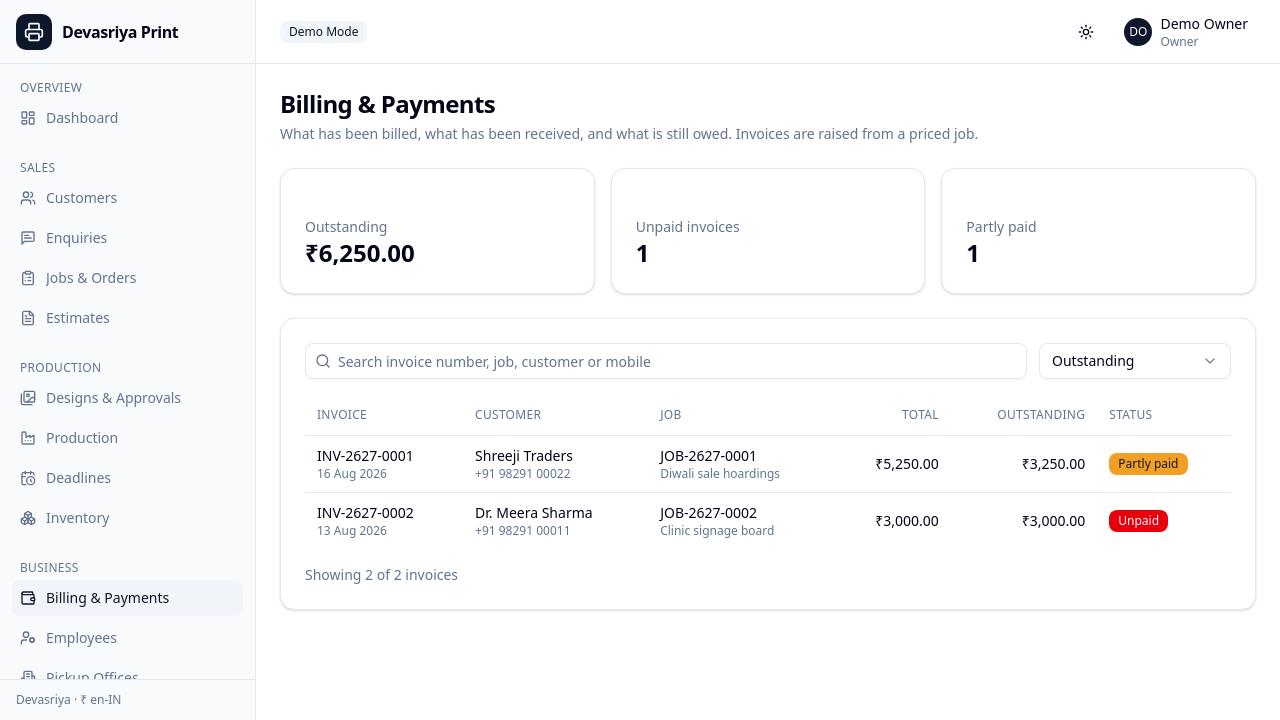
demo billing › lists what is outstanding, and filters by payment status
Expected: the heading "Billing & Payments" is shown, [280,87,495,120]
Expected: the text "₹6,250.00" is shown, [305,236,415,269]
Click the dropdown named "Filter by payment status": (1135, 361) [1039,343,1231,379]
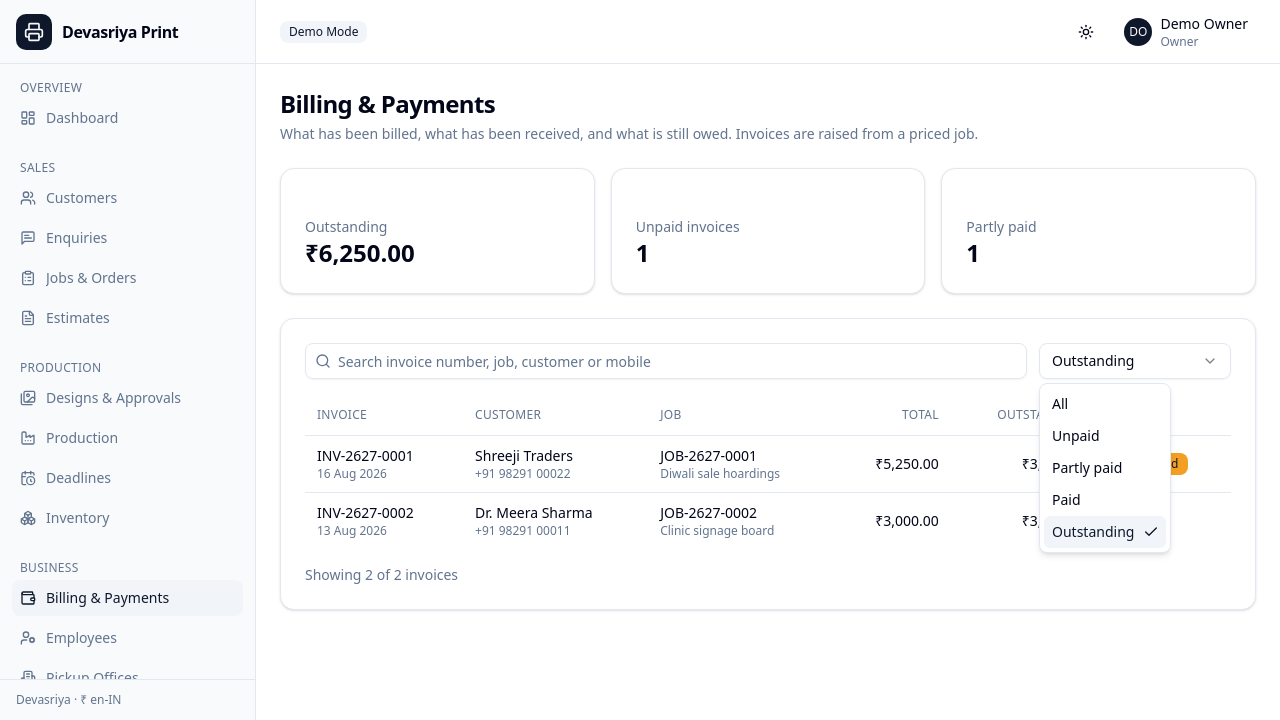
Click the option "Paid": (1066, 500) [1052,490,1080,509]
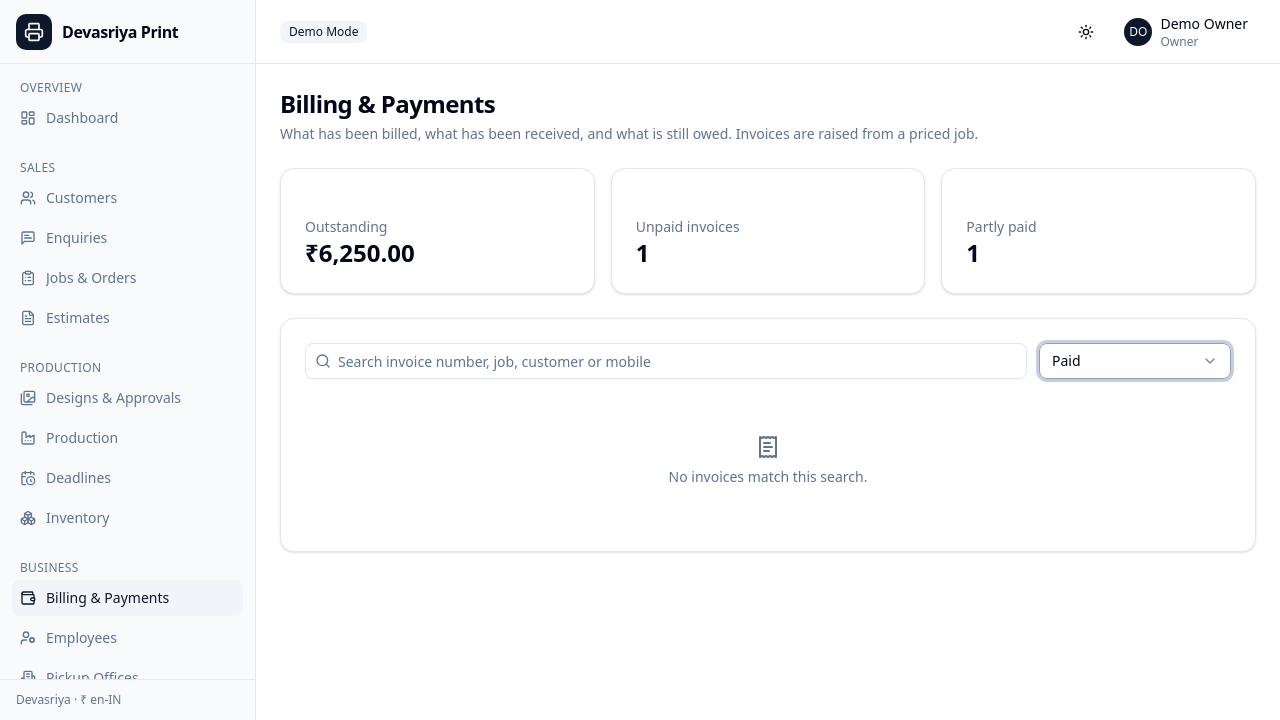
Result: no links "INV-2627-0001" are shown
